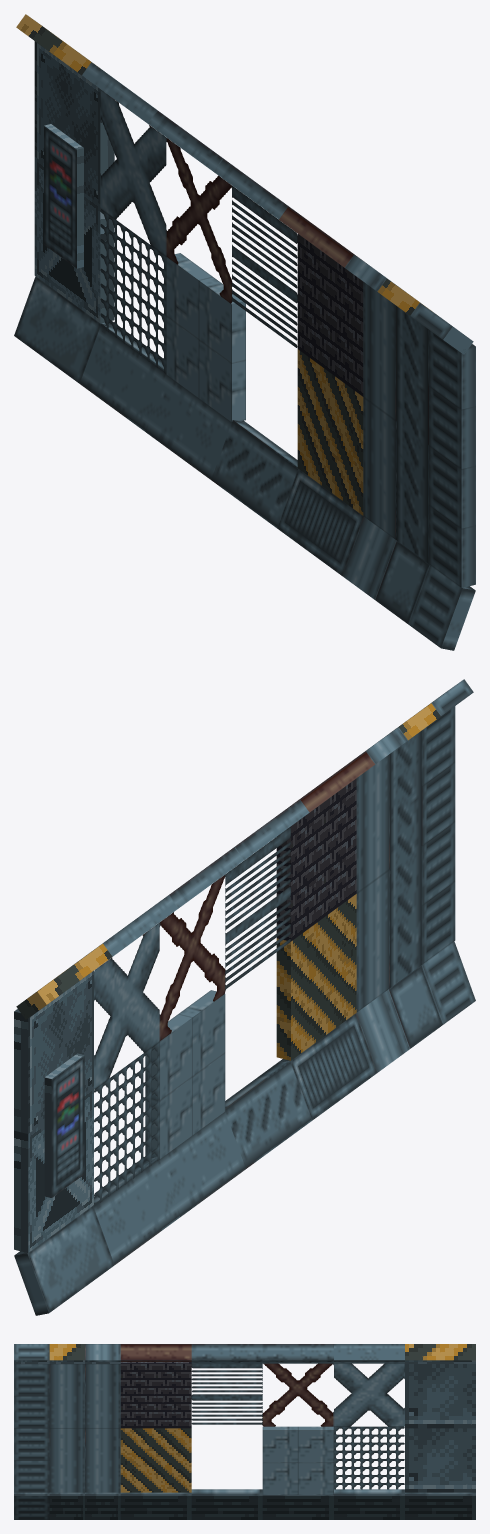
File: walls.fbx
The picture shows the model from 3 angles, top to bottom: view 1: azimuth 30°, elevation 25°; view 2: azimuth 150°, elevation 25°; view 3: azimuth 270°, elevation 25°; orthographic projection. The views are drawn at different scales.
Parts seen in each view (by area): view 1: cube_6, cube_7, cube_13, plane, cube_22, cube_4, cube_14, cube_2, cube_5, plane_2, cube, cube_1 (+25 smaller); view 2: cube_6, cube_7, cube_13, cube_22, plane, cube_2, cube_4, cube_14, cube, cube_5, plane_2, cube_1 (+25 smaller); view 3: cube_7, cube_13, cube_6, cube_22, plane_2, plane, plane_1, cube_16, cube_20, cube_15, cube_19, cube_4 (+24 smaller).
Boxes of the visible parts, <box> form: cube_6: <box>297,349,363,515</box>; cube_7: <box>297,234,363,396</box>; cube_13: <box>34,41,114,203</box>; plane: <box>100,90,166,255</box>; cube_22: <box>34,157,114,323</box>; cube_4: <box>211,420,298,527</box>; cube_14: <box>80,323,165,431</box>; cube_2: <box>14,276,111,383</box>; cube_5: <box>277,469,363,575</box>; plane_2: <box>232,186,297,347</box>; cube: <box>44,124,83,268</box>; cube_1: <box>145,374,244,479</box>; cube_6: <box>276,894,356,1060</box>; cube_7: <box>276,778,356,941</box>; cube_13: <box>14,970,93,1133</box>; cube_22: <box>14,1086,93,1252</box>; plane: <box>94,923,159,1089</box>; cube_2: <box>14,1206,114,1315</box>; cube_4: <box>225,1061,311,1168</box>; cube_14: <box>93,1157,179,1264</box>; cube: <box>44,1053,84,1197</box>; cube_5: <box>277,1013,377,1120</box>; plane_2: <box>225,827,290,990</box>; cube_1: <box>159,1112,245,1216</box>; cube_7: <box>120,1362,191,1428</box>; cube_13: <box>405,1362,475,1428</box>; cube_6: <box>120,1428,191,1492</box>; cube_22: <box>405,1428,475,1492</box>; plane_2: <box>191,1363,262,1424</box>; plane: <box>334,1363,404,1426</box>; plane_1: <box>334,1426,404,1489</box>; cube_16: <box>85,1362,120,1428</box>; cube_20: <box>49,1362,84,1428</box>; cube_15: <box>85,1428,120,1492</box>; cube_19: <box>49,1428,84,1492</box>; cube_4: <box>191,1489,262,1519</box>.
Size of the model in its own units: 30.77 by 273 by 650.
